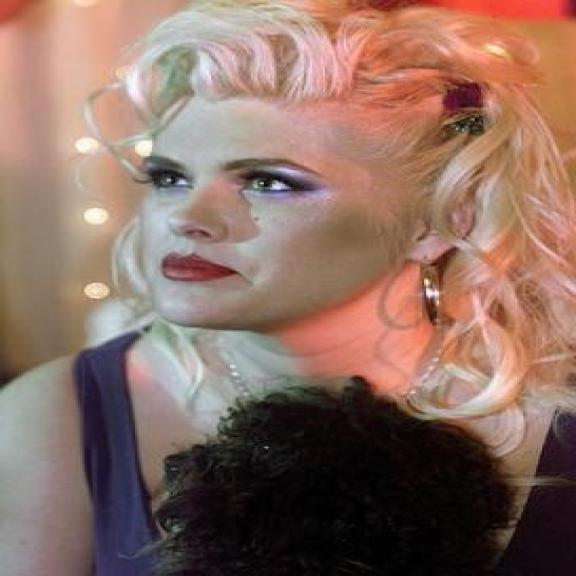face: (133, 83, 483, 332)
